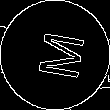M_W: (26, 28, 84, 82)
